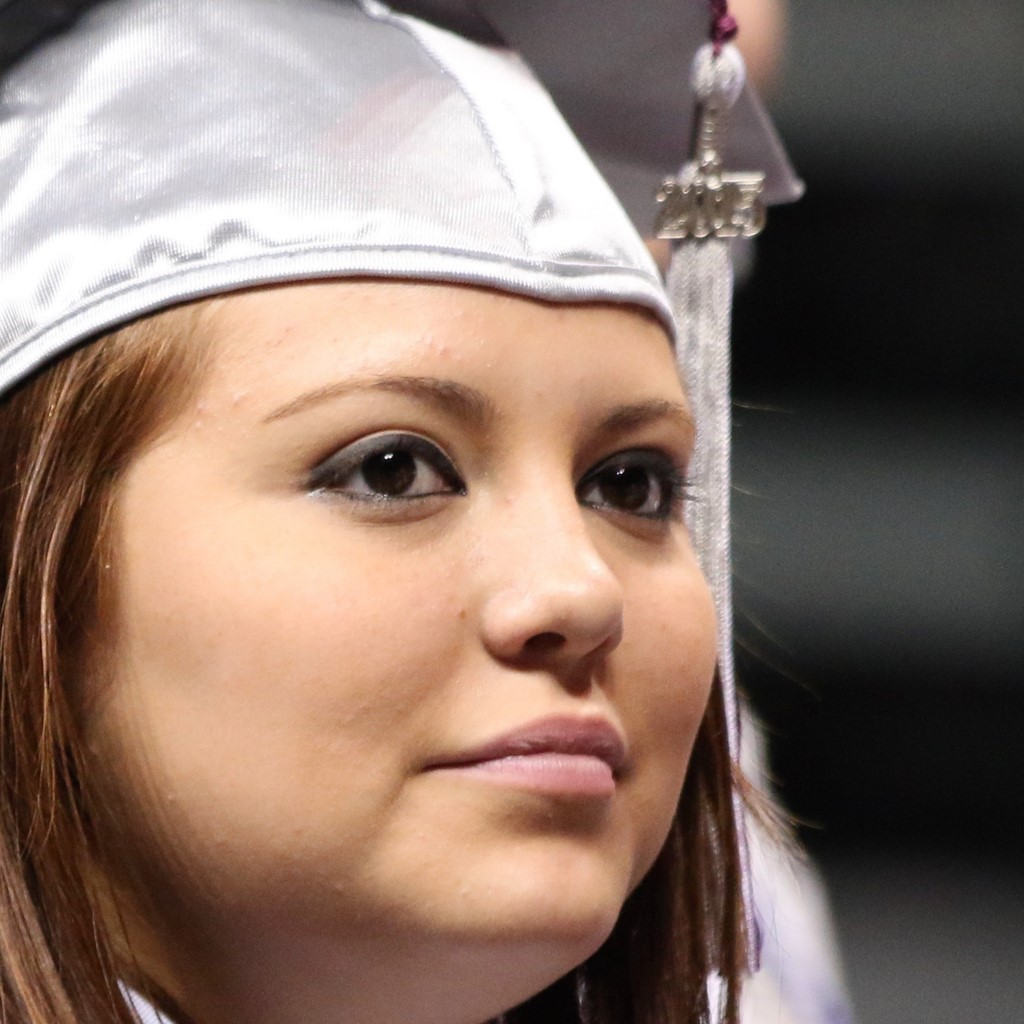sin_mascara: (92, 193, 714, 1001)
